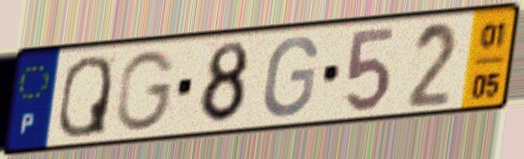2: (403, 18, 462, 110)
5: (340, 23, 401, 114)
8: (194, 38, 250, 128)
G: (113, 48, 179, 134), (259, 34, 321, 120)
Q: (55, 52, 115, 140)
